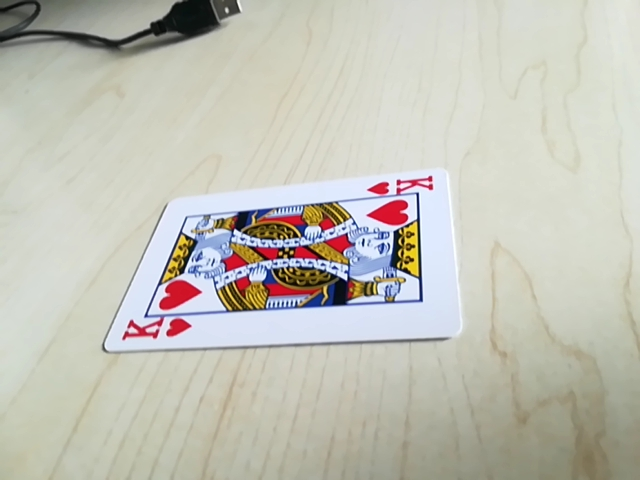hx k: (117, 314, 195, 348), (369, 174, 440, 200)
